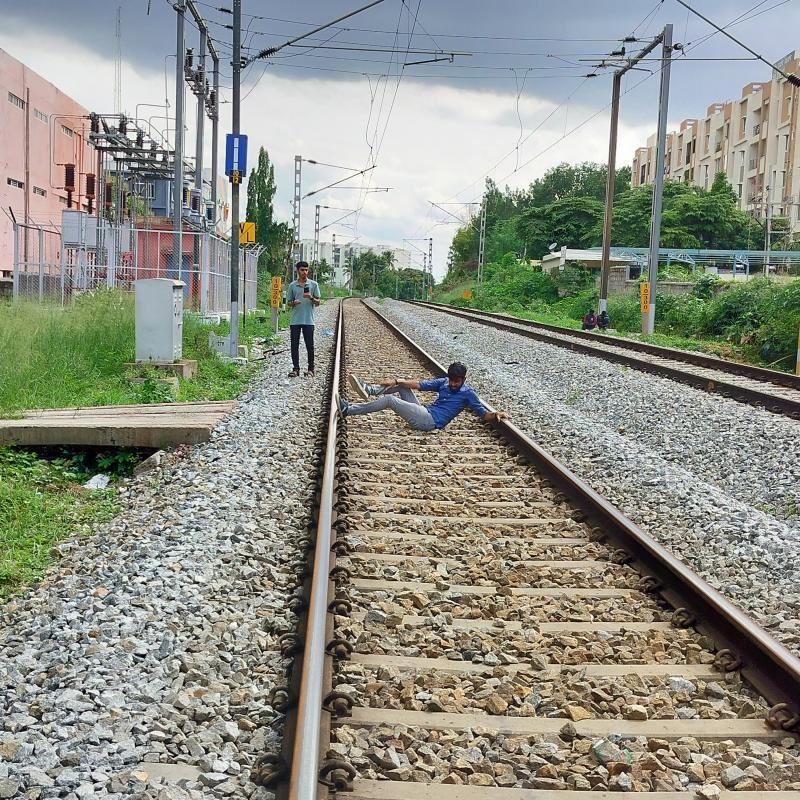sleeping: (334, 360, 514, 432)
